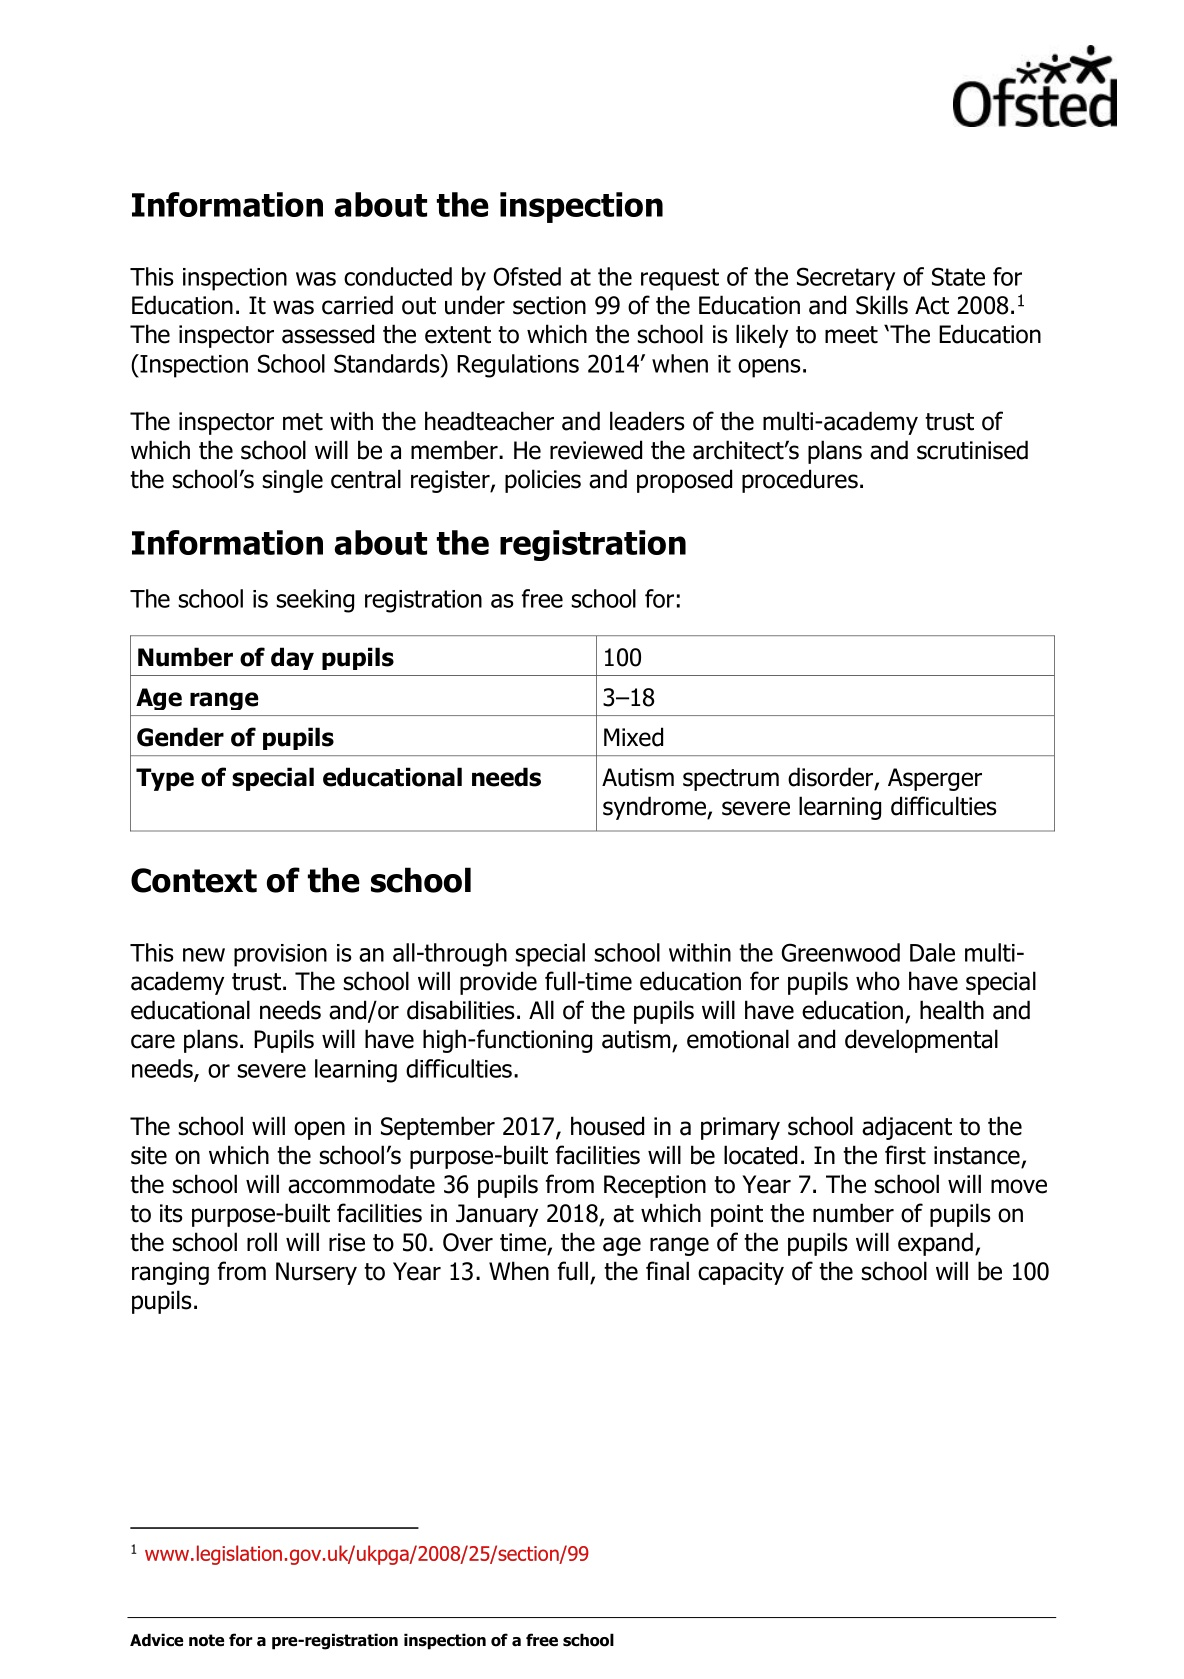full_lined: (129, 634, 1056, 832)
